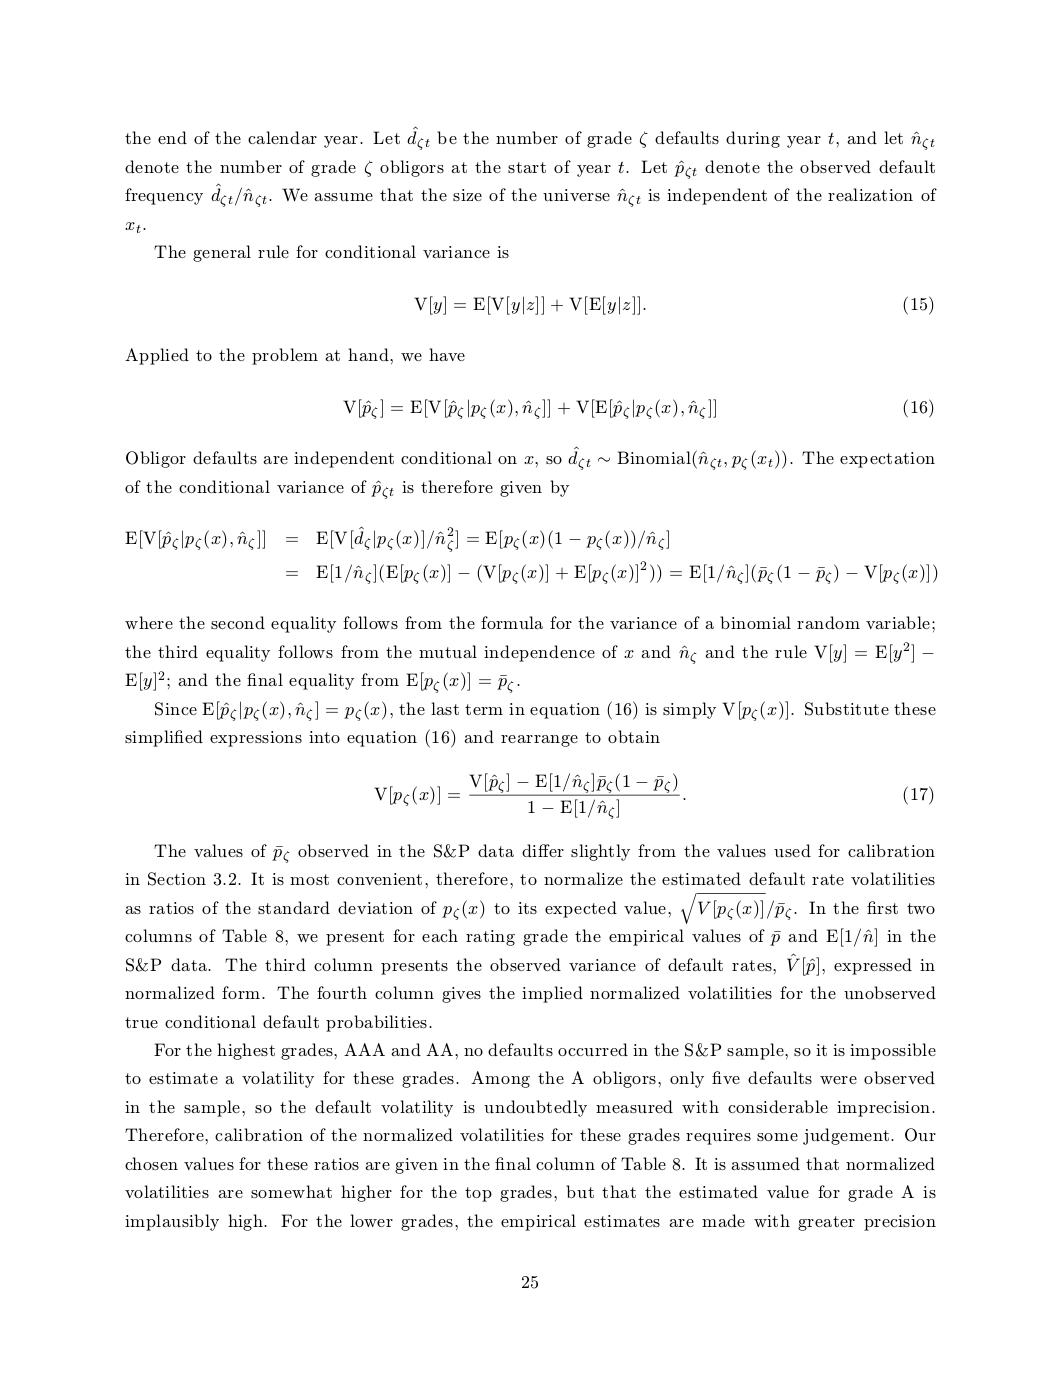formula: (374, 772, 933, 819), (286, 559, 937, 584), (125, 525, 668, 552), (343, 398, 933, 419), (413, 295, 933, 315)
